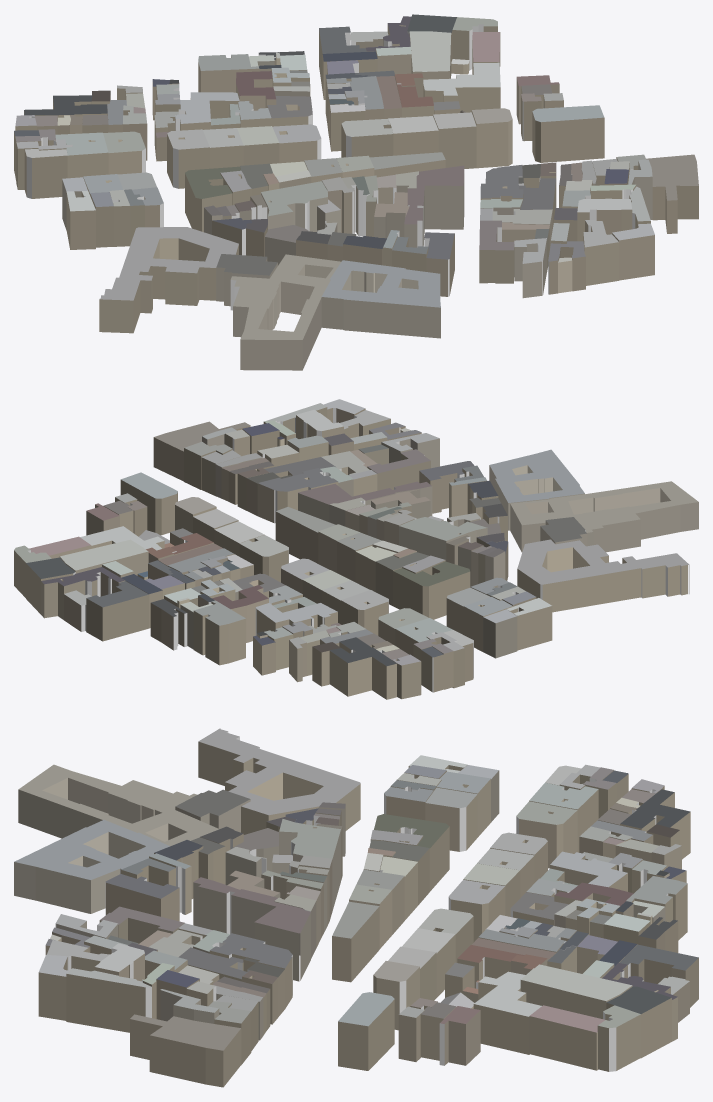
The picture shows the model from 3 angles, top to bottom: view 1: azimuth 30°, elevation 25°; view 2: azimuth 150°, elevation 25°; view 3: azimuth 270°, elevation 25°; orthographic projection. The views are drawn at different scales.
Parts seen in each view (by area): view 1: tuile; view 2: tuile; view 3: tuile.
Part boxes in pixels (x1,y1,x2,y2): tuile: (14,14,698,370); tuile: (14,399,698,699); tuile: (14,728,698,1087).
Size of the model in its own units: 305 by 24.92 by 275.
